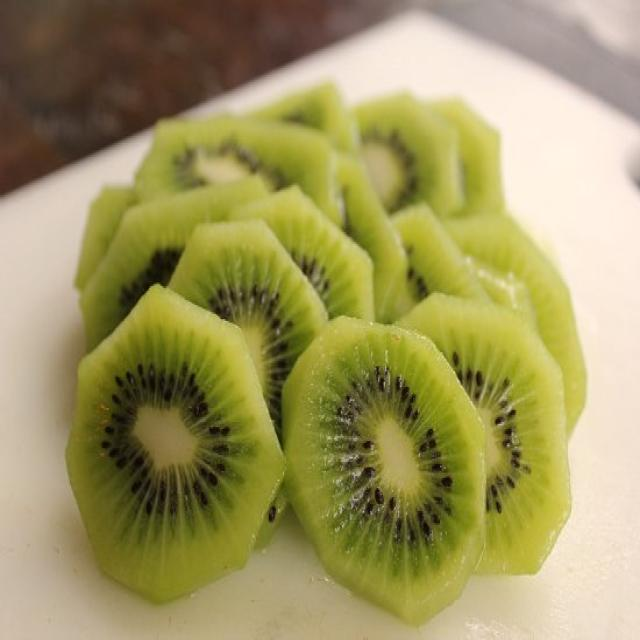Chilli Pepper: (265, 282, 497, 622), (368, 265, 602, 581), (66, 274, 280, 598), (167, 183, 346, 469), (129, 92, 335, 281), (334, 82, 505, 242)
